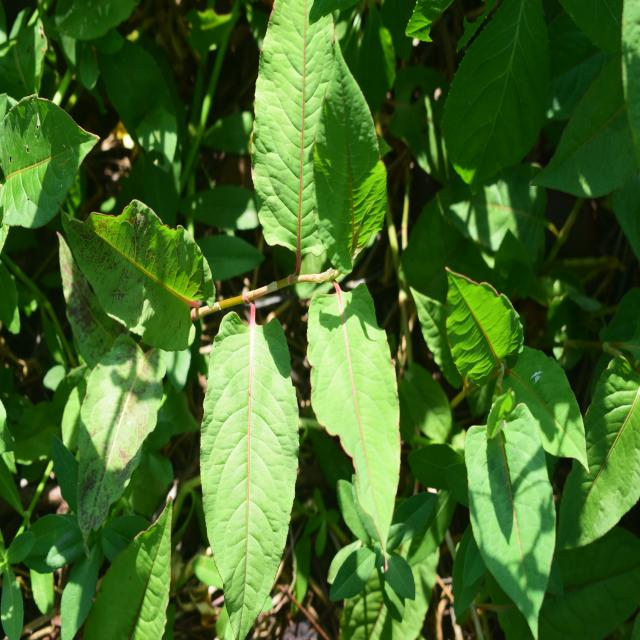Chinese_knotweed: (197, 12, 437, 536)
